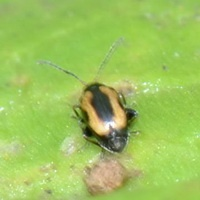insect: (38, 38, 136, 152)
